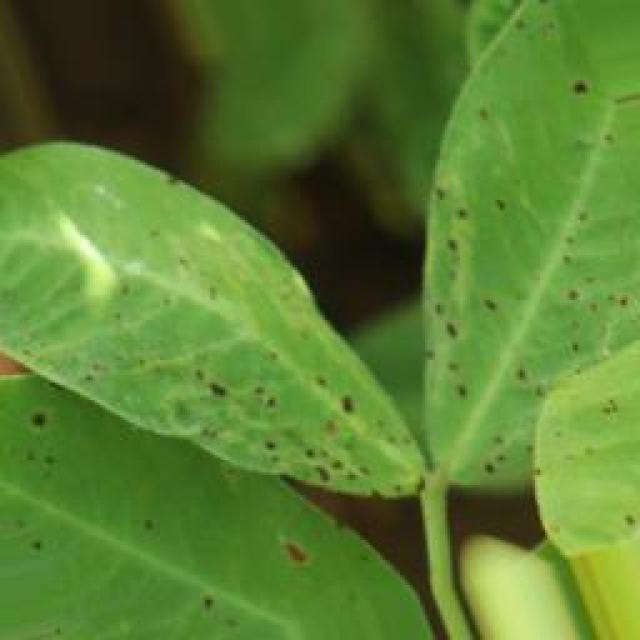Sigatoka: (185, 218, 340, 373), (413, 186, 506, 393), (538, 201, 636, 366), (99, 335, 218, 422), (543, 124, 640, 227), (468, 352, 572, 442), (305, 378, 391, 476), (366, 428, 441, 518), (78, 262, 170, 335), (193, 379, 303, 439), (463, 0, 541, 73), (549, 61, 620, 135), (253, 508, 314, 588), (575, 380, 640, 452), (266, 436, 336, 500), (454, 419, 536, 472), (438, 105, 504, 161), (16, 396, 63, 458), (595, 479, 640, 537), (193, 571, 233, 620)
